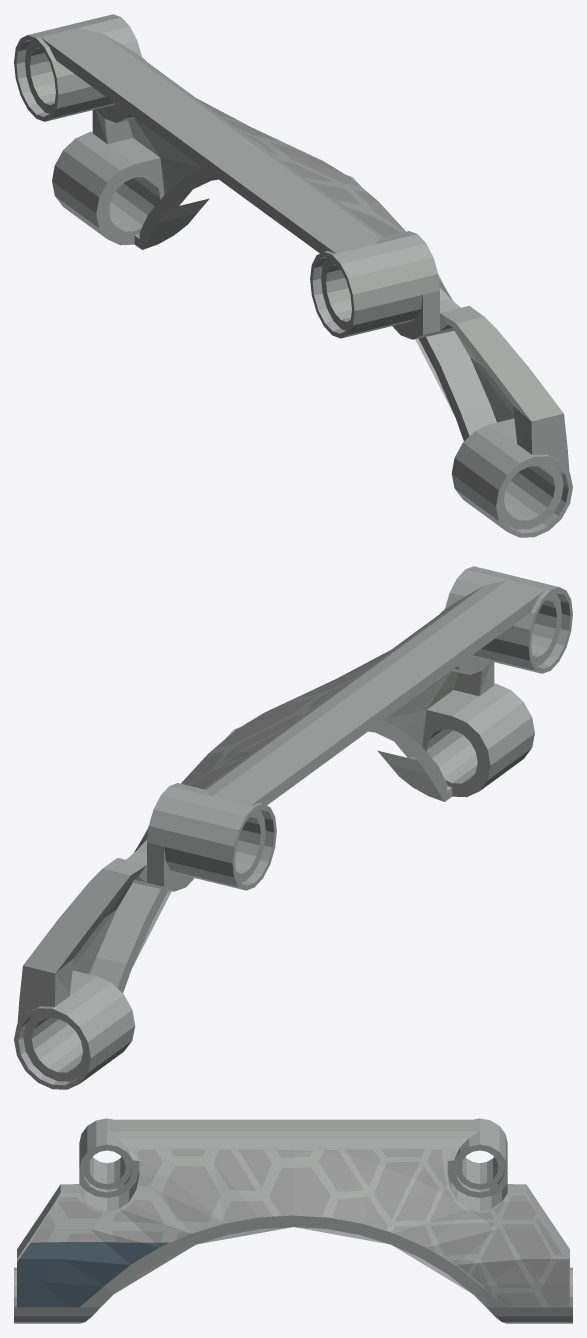
3 renders of one model, top to bottom at view 1: azimuth 30°, elevation 25°; view 2: azimuth 150°, elevation 25°; view 3: azimuth 270°, elevation 25°, orthographic. The views are drawn at different scales.
Parts seen in each view (by area): view 1: world; view 2: world; view 3: world.
Boxes of the visible parts, box(x1,y1,x2,y2) form: world: box(14, 14, 572, 537); world: box(14, 566, 572, 1089); world: box(14, 1118, 572, 1323).
Size of the model in its own units: 0.0158 by 0.0232 by 0.072.
